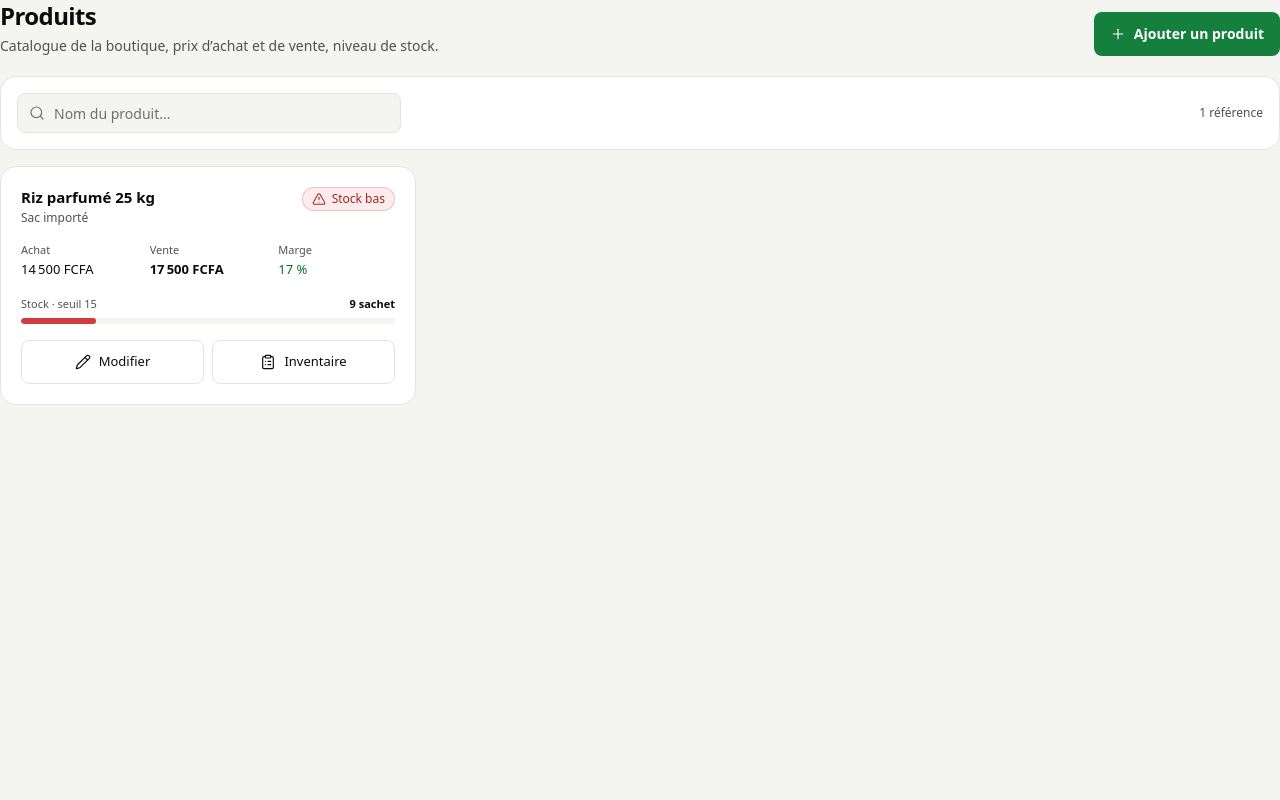
Test: accessibilité de l'écran Produits › ne présente aucune infraction, inventaire ouvert
The width and height of the screenshot is (1280, 800).
Expected: the heading "Riz parfumé 25 kg" is shown, [21,187,155,208]
Click the button with aria-label "inventaire de".
click(304, 362)  # box [212,340,395,384]
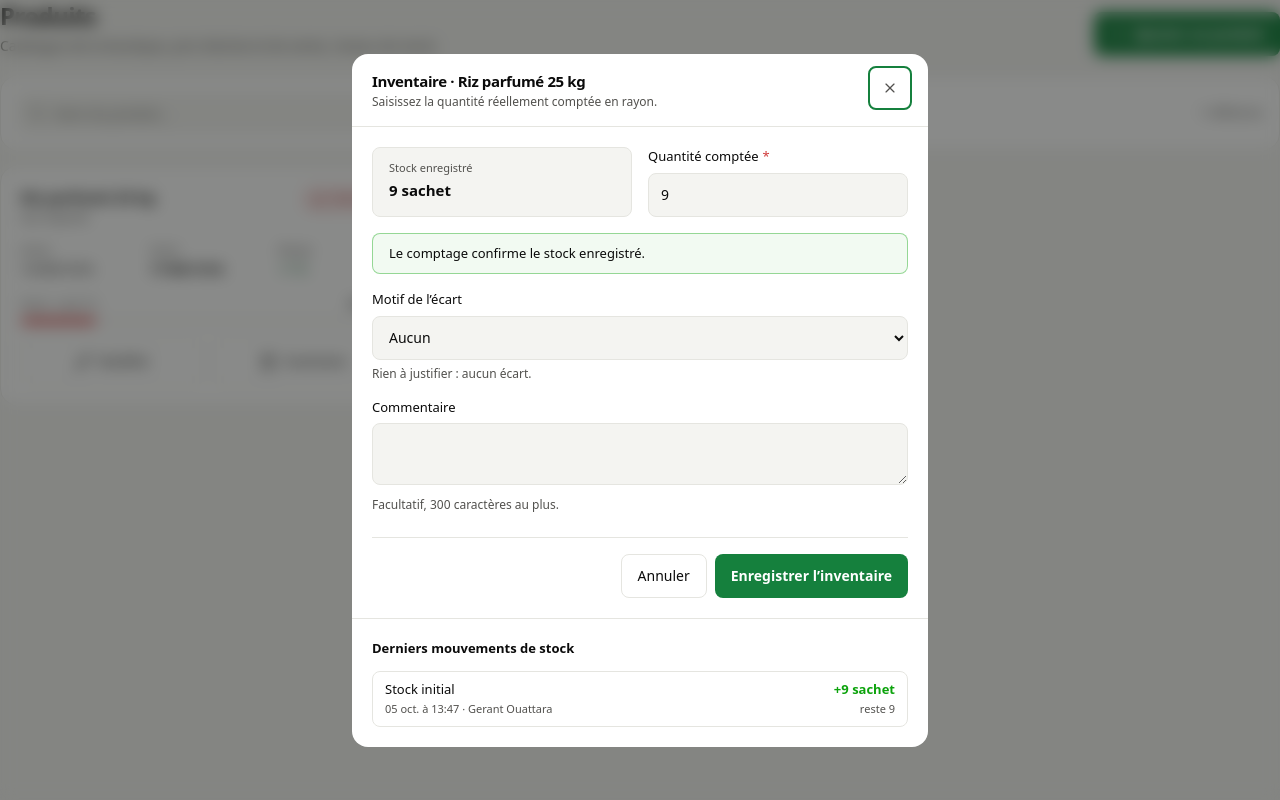
Expected: the dialog is shown, [352,54,928,746]
Expected: the text "Stock initial" is shown, [385,680,455,698]
